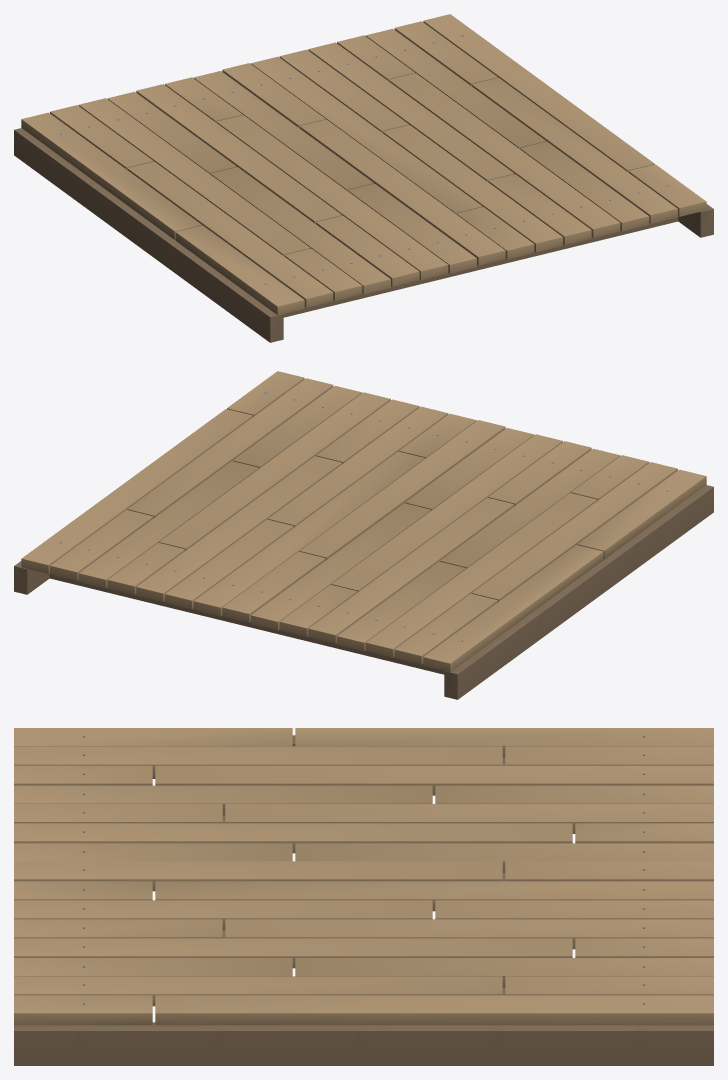
The model's file is rig_deck_4m.glb.
3 views of the same model, one above another, from view 1: azimuth 30°, elevation 25°; view 2: azimuth 150°, elevation 25°; view 3: azimuth 270°, elevation 25° (orthographic). The views are drawn at different scales.
Parts seen in each view (by area): view 1: rig_deck_4m; view 2: rig_deck_4m; view 3: rig_deck_4m.
Part boxes in pixels (bbox=[...]): rig_deck_4m: bbox=[14, 14, 713, 342]; rig_deck_4m: bbox=[14, 371, 713, 699]; rig_deck_4m: bbox=[14, 728, 713, 1065].
Bounding box in the file's own units: 4 × 0.3046 × 4.
